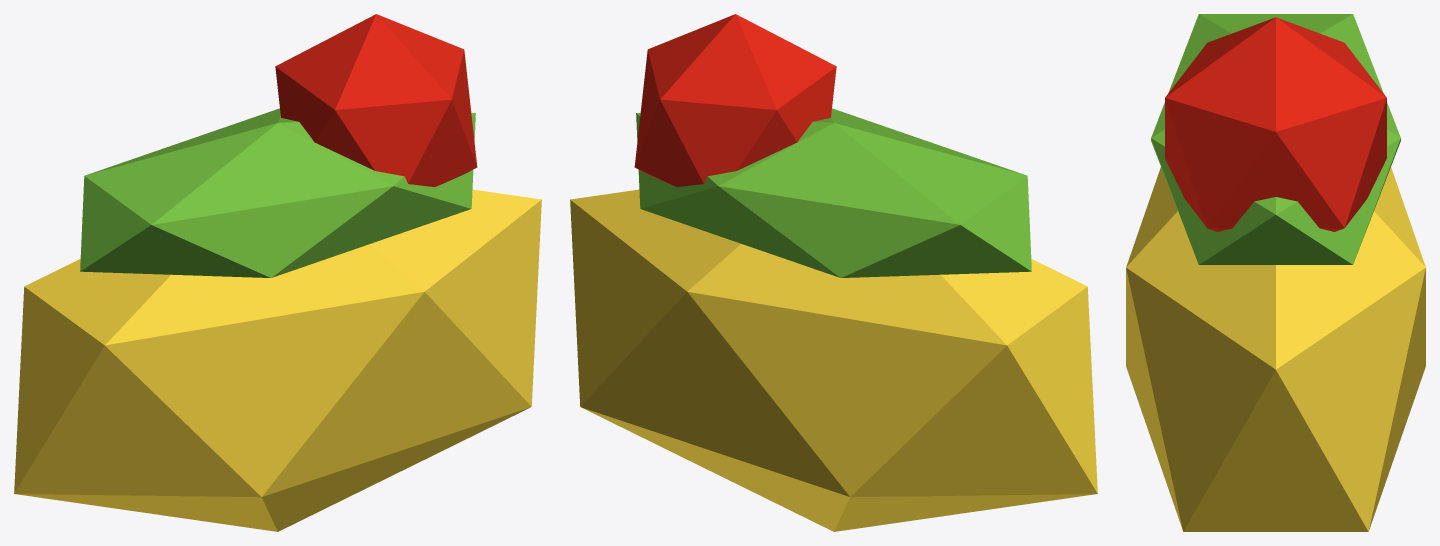
File: taco.glb
The picture shows the model from 3 angles, left to right: view 1: azimuth 30°, elevation 25°; view 2: azimuth 150°, elevation 25°; view 3: azimuth 270°, elevation 25°; orthographic projection. The views are drawn at different scales.
Parts seen in each view (by area): view 1: taco; view 2: taco; view 3: taco.
Boxes of the visible parts, x1=… form: taco: x1=14, y1=14, x2=541, y2=531; taco: x1=570, y1=14, x2=1097, y2=531; taco: x1=1126, y1=14, x2=1425, y2=531.
Size of the model in its own units: 0.1073 by 0.096 by 0.0459.
